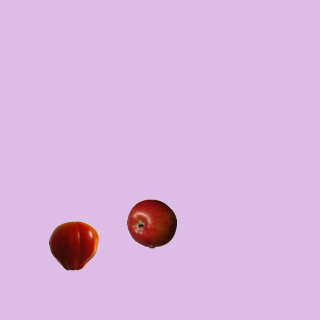Apple Braeburn: (126, 198, 176, 248)
Tomato 1: (48, 220, 98, 270)
